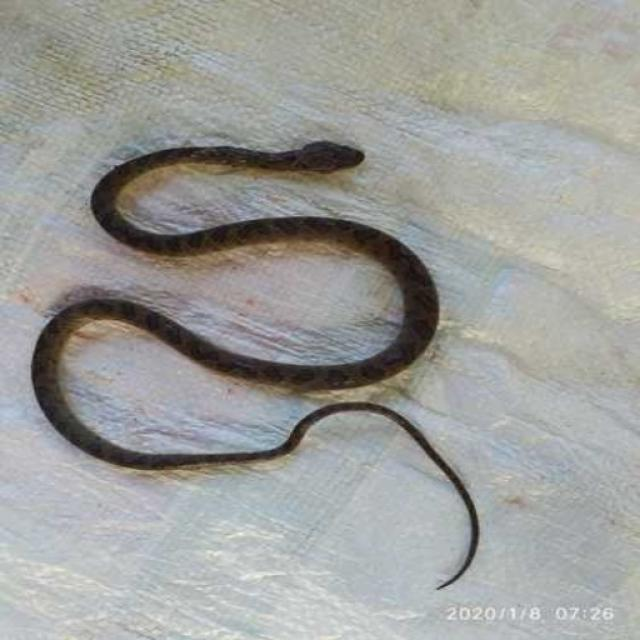snake: (25, 121, 519, 601)
